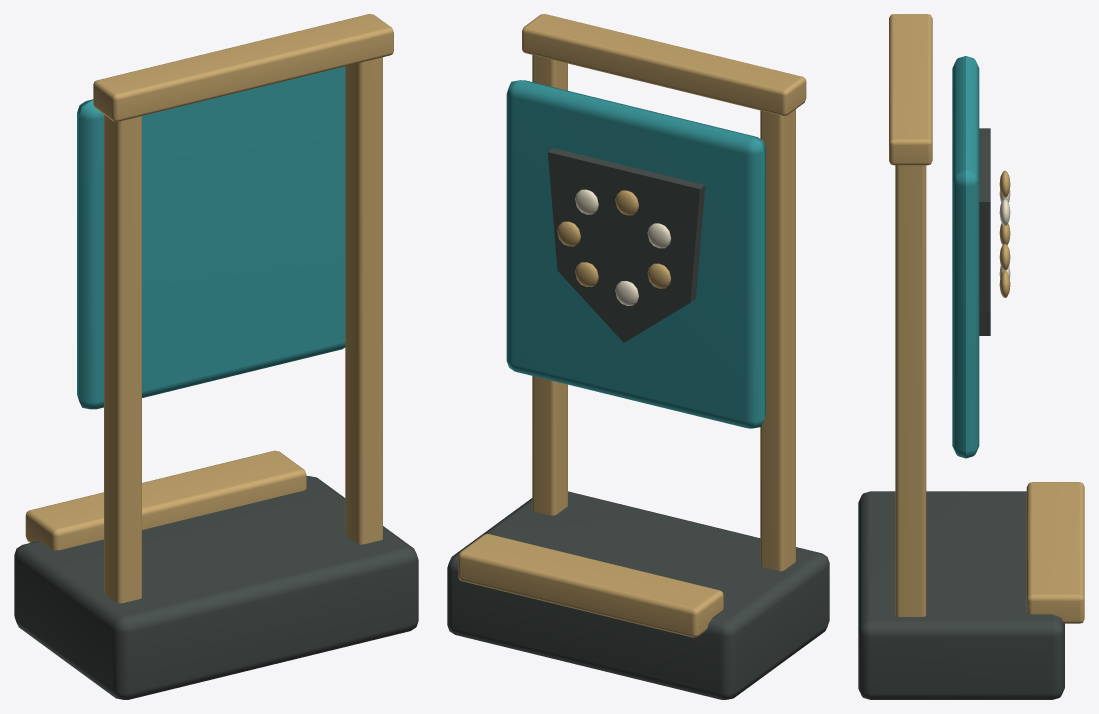
Rendered from fanstand.steppe-sails-new.glb.
3 views of the same model, side by side, from view 1: azimuth 30°, elevation 25°; view 2: azimuth 150°, elevation 25°; view 3: azimuth 270°, elevation 25° (orthographic). The views are drawn at different scales.
Visible parts, largest first — view 1: Beveled pedestal; view 2: Beveled pedestal; view 3: Beveled pedestal.
Boxes of the visible parts, x1,y1,x2,y2 form: Beveled pedestal: [14, 14, 418, 699]; Beveled pedestal: [447, 14, 829, 699]; Beveled pedestal: [858, 14, 1084, 699].
Bounding box in the file's own units: 0.91 × 1.7 × 0.625.
